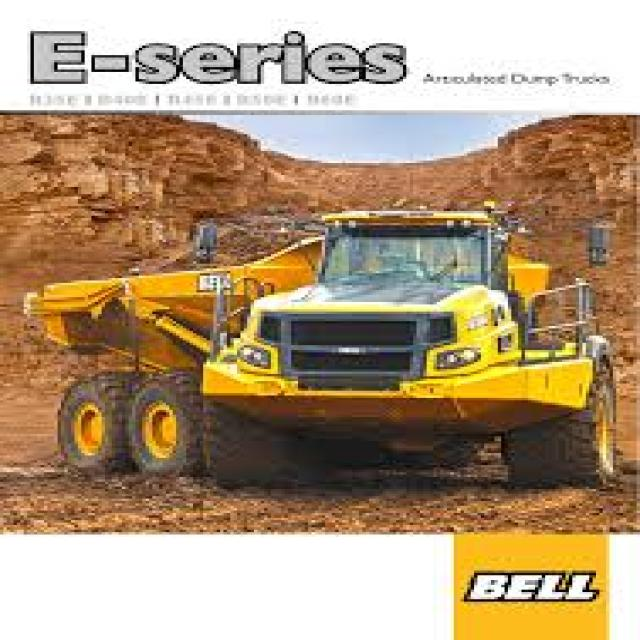dump_truck: (54, 168, 637, 489)
